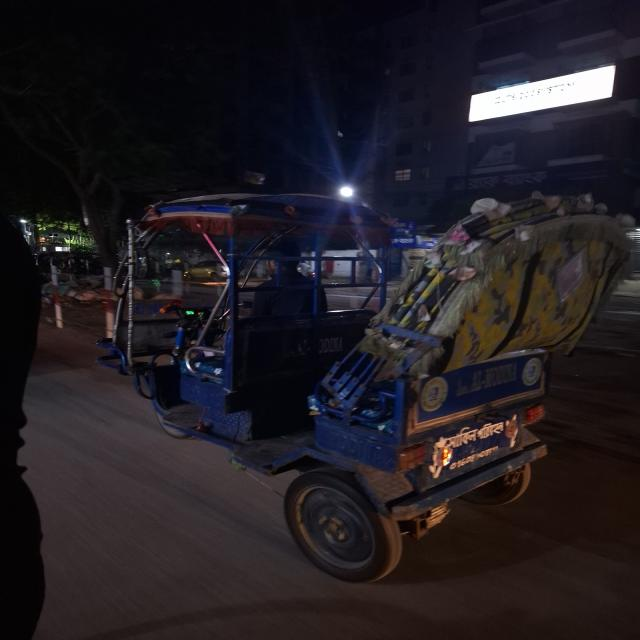rickshaw: (93, 175, 640, 592)
